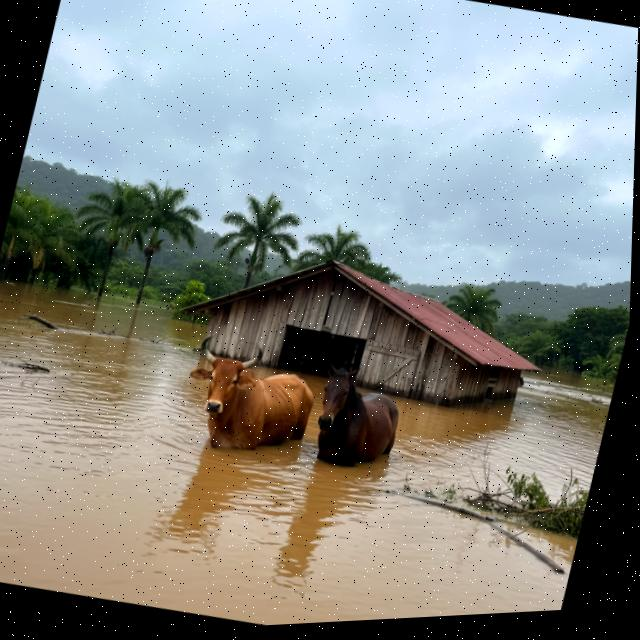cow: (166, 322, 331, 475)
horse: (295, 354, 426, 496)
